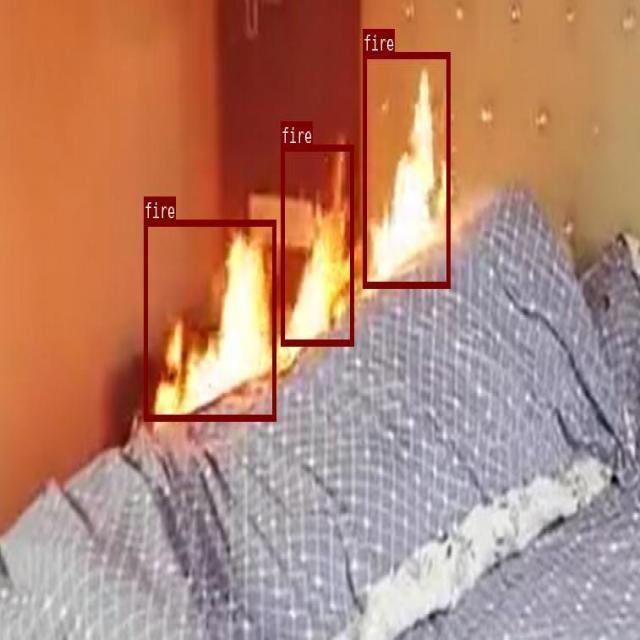fire: (144, 218, 275, 420), (362, 52, 450, 287), (281, 144, 353, 345)
